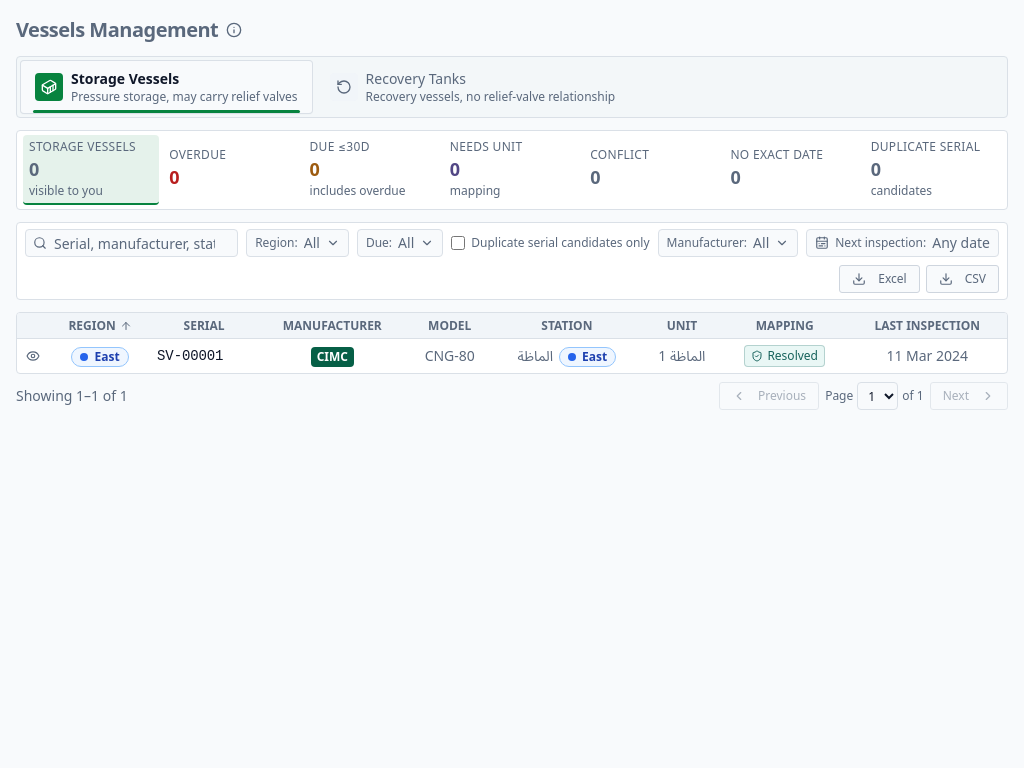
Related SRVs › states why a "Storage" source text does not count as a relationship
The width and height of the screenshot is (1024, 768).
Click the button named "show the full technical record" at [33, 356], box x1=23 y1=346 x2=43 y2=366
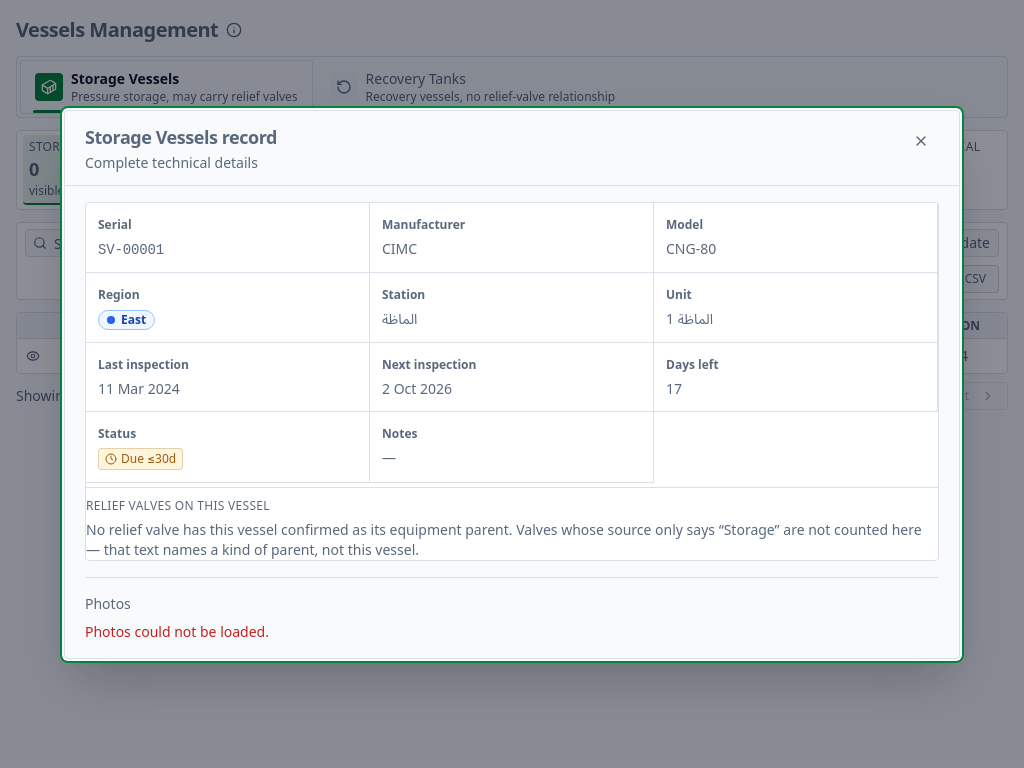
Expected: the text "names a kind of parent, not this vessel" is shown, x1=86 y1=520 x2=922 y2=558
